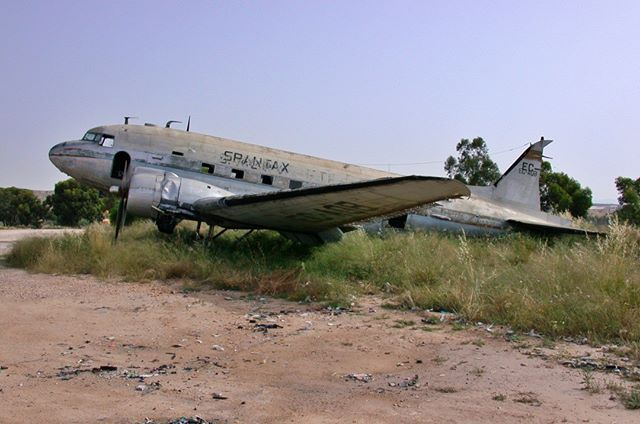plane: (63, 113, 570, 272)
sky: (8, 1, 636, 158)
